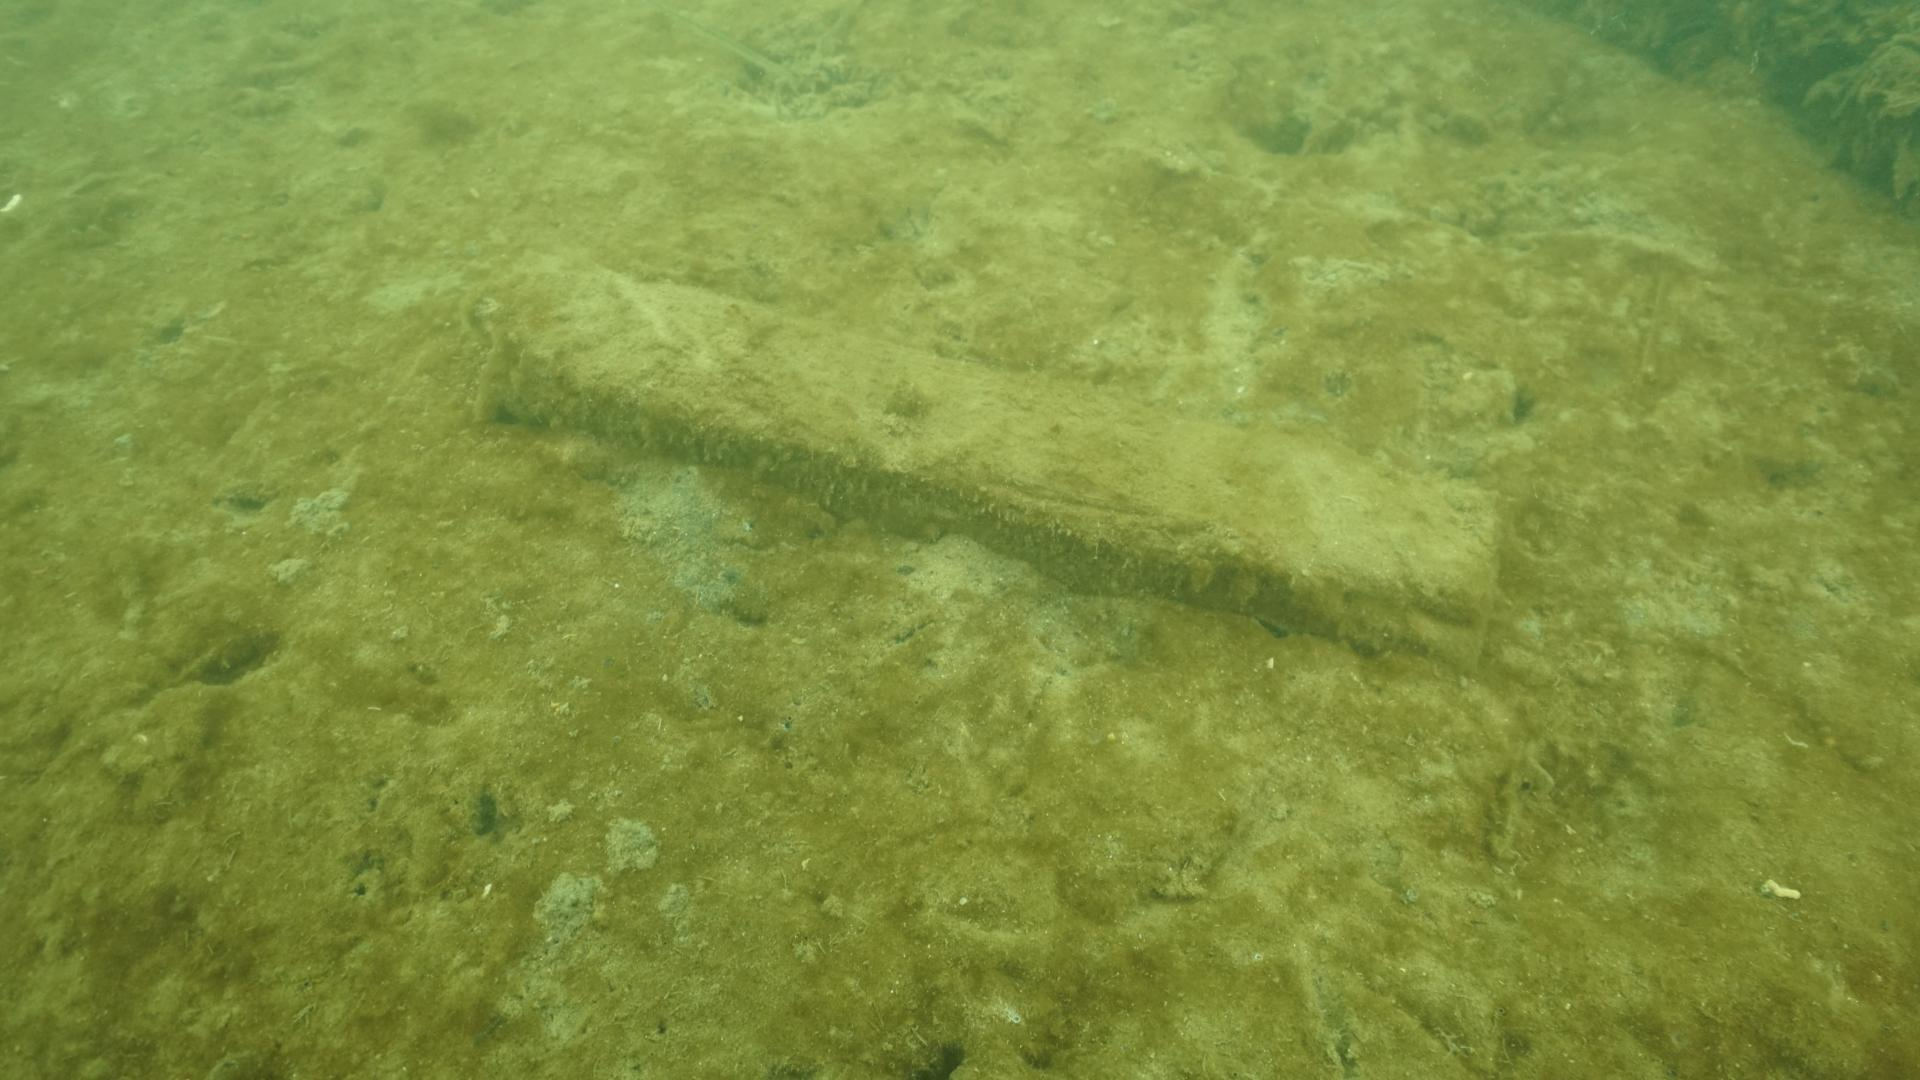wood: (487, 247, 1513, 686)
